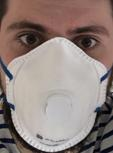with_mask: (2, 1, 113, 153)
